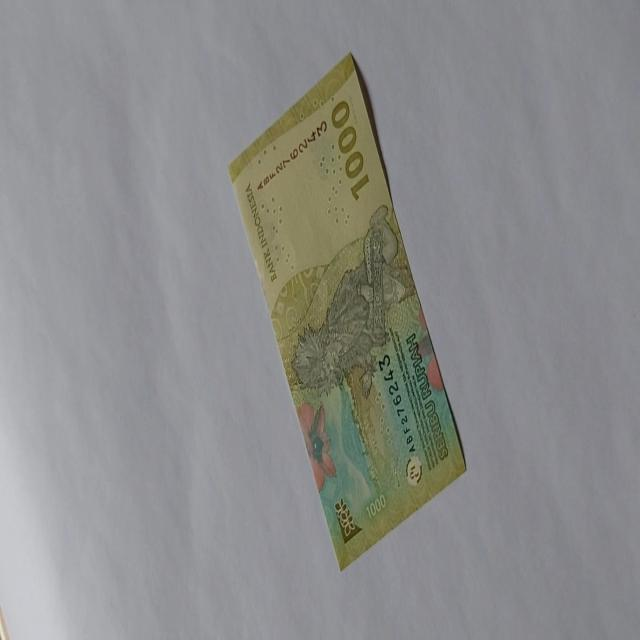seribu rupiah kertas: (227, 51, 467, 572)
